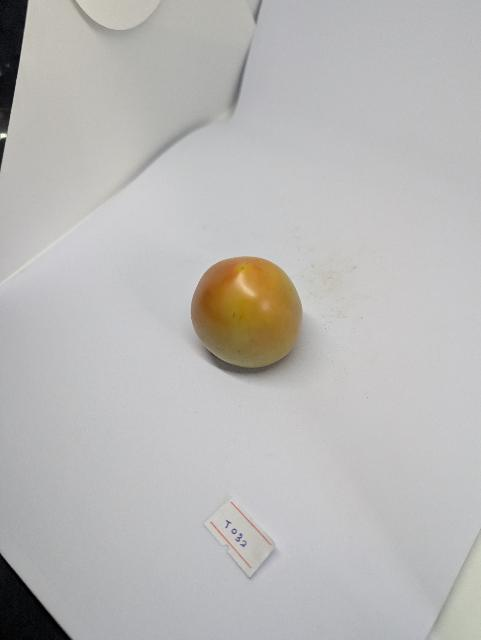turning: (176, 247, 317, 379)
